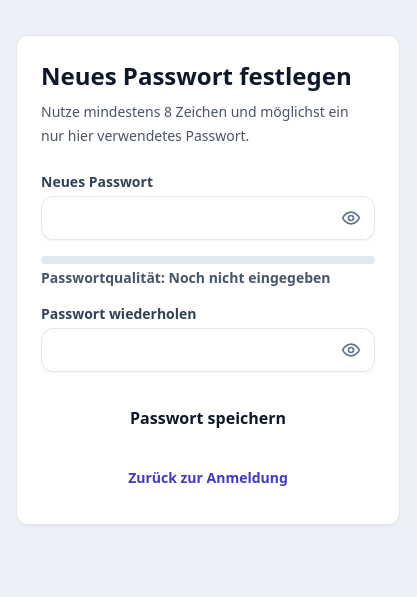
authentication return flow › explains an expired reset link and preserves the target on the replacement request
Type "new-password-123" into the password field labelled "Neues Passwort". click: (208, 218)
box: [41,196,375,240]
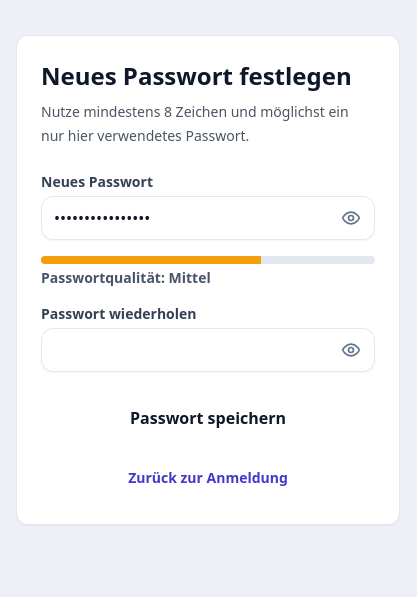
Type "new-password-123" into the password field labelled "Passwort wiederholen". click: (208, 350)
box: [41,328,375,372]
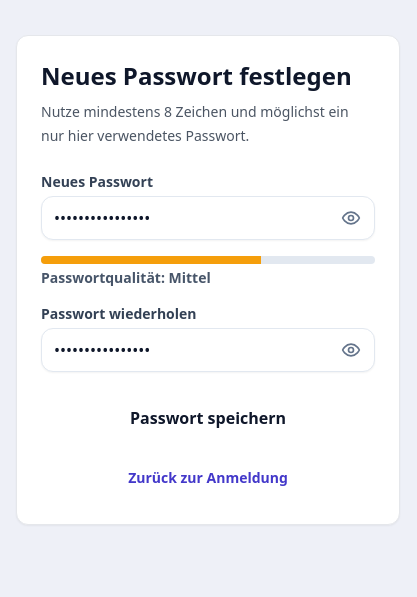
Click the button "Passwort speichern". click: (208, 418)
box: [41,396,375,440]
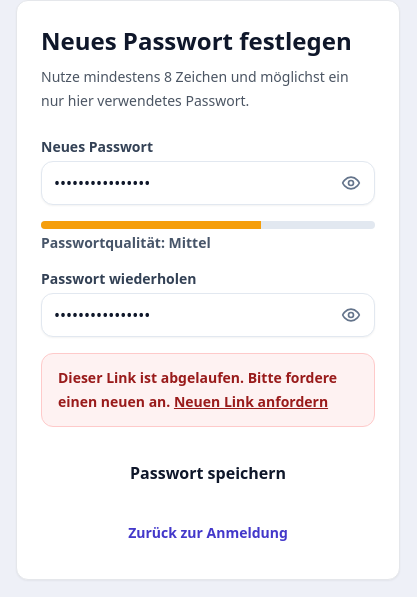
Expected: the text "Dieser Link ist abgelaufen. Bitte fordere einen neuen an. Neuen Link anfordern" is shown, [41,353,375,427]
